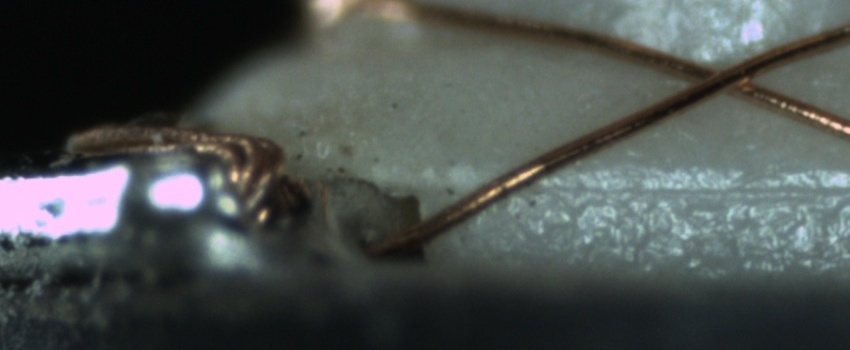CL: (672, 51, 786, 103)
DL: (525, 155, 849, 216)
TE: (64, 120, 297, 225)
